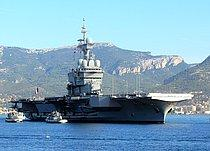MIL_Ship: (10, 22, 192, 124)
